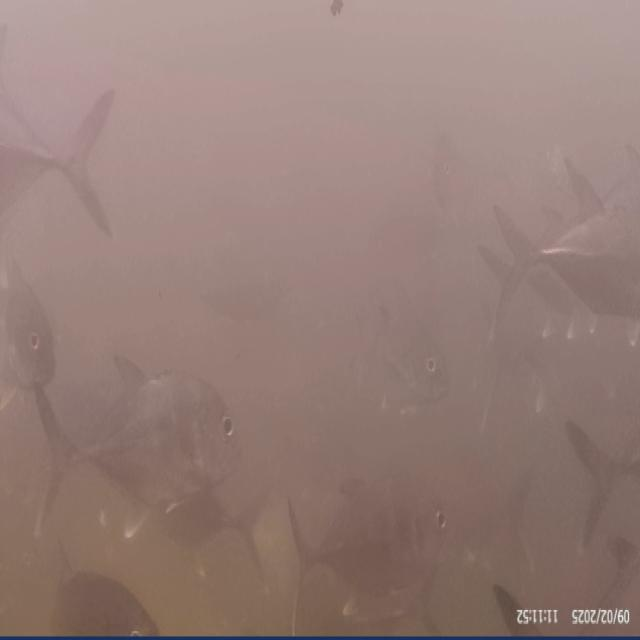ikan: (475, 148, 638, 432), (30, 350, 242, 541), (0, 83, 116, 239), (0, 254, 57, 408)
